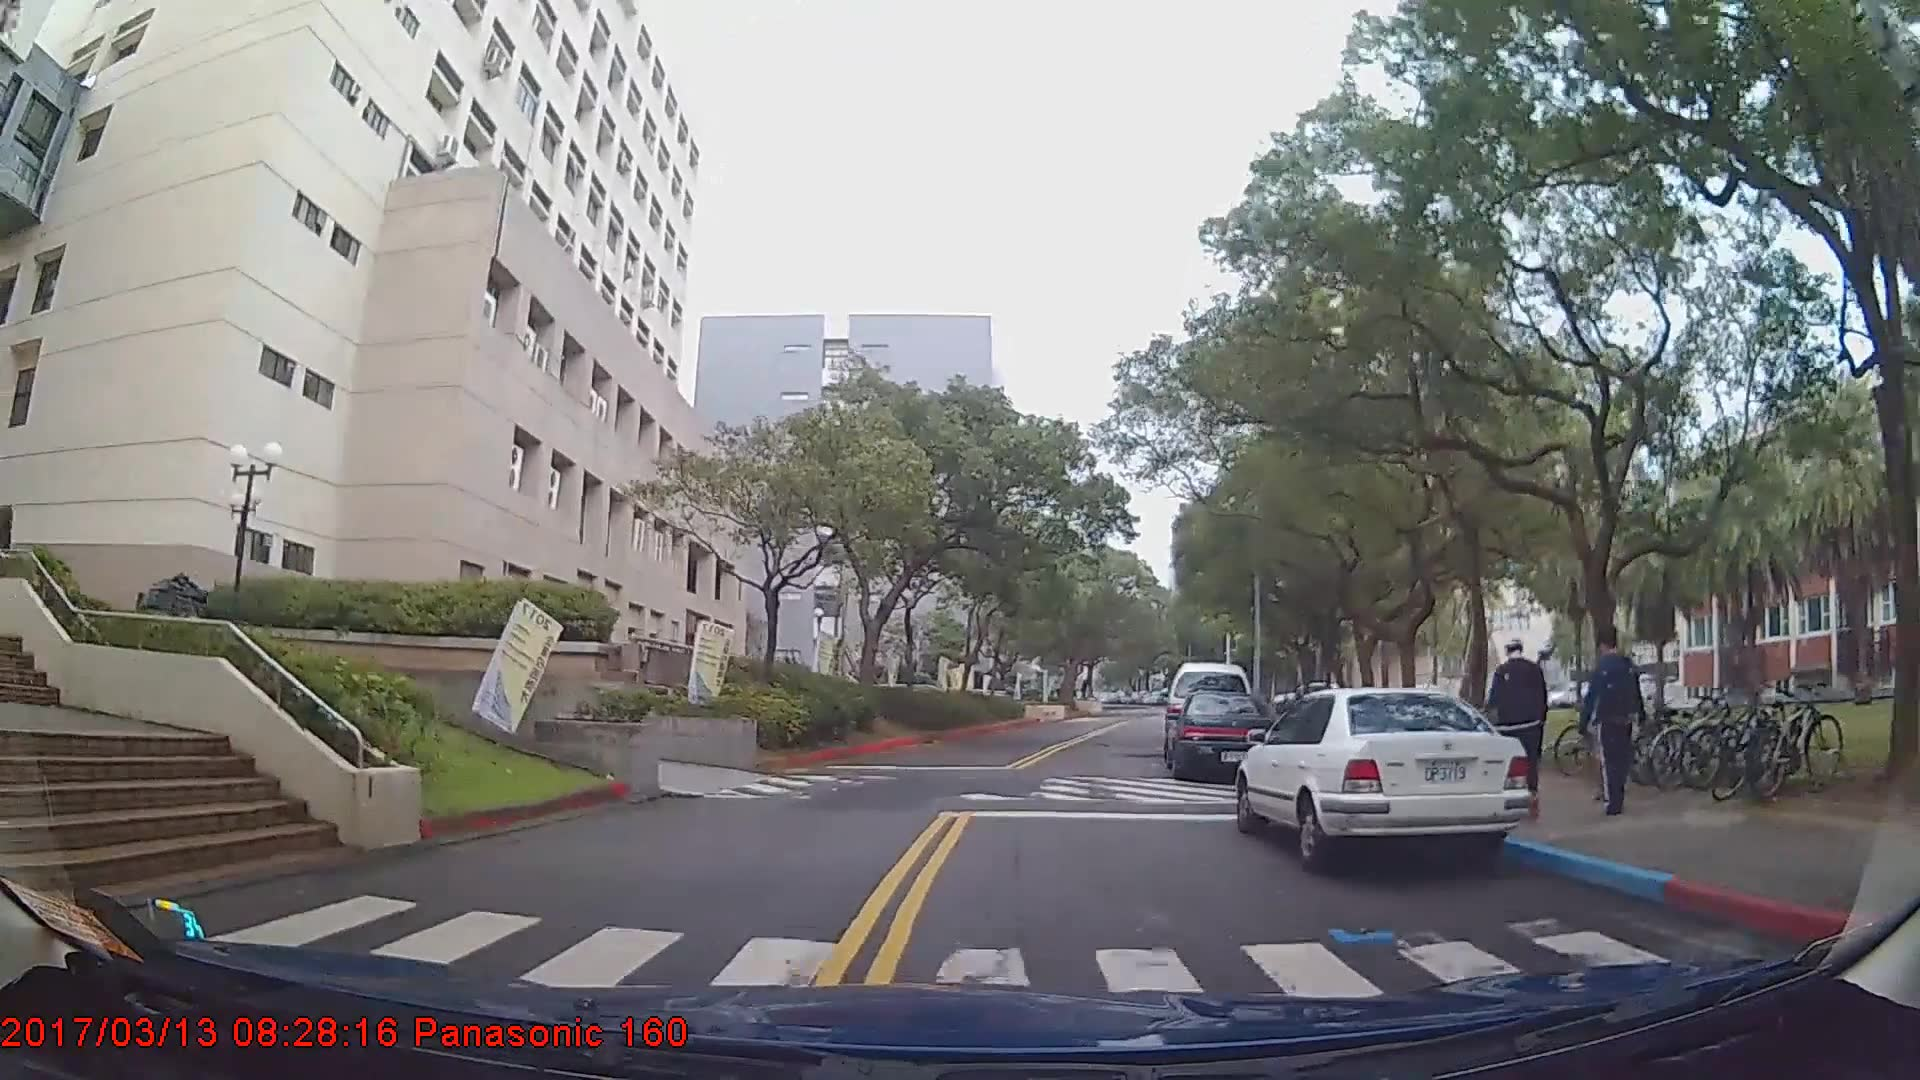pedestrian: (1589, 623, 1650, 820), (1492, 634, 1551, 815)
vehicle: (1235, 684, 1535, 875), (1167, 692, 1281, 783)
